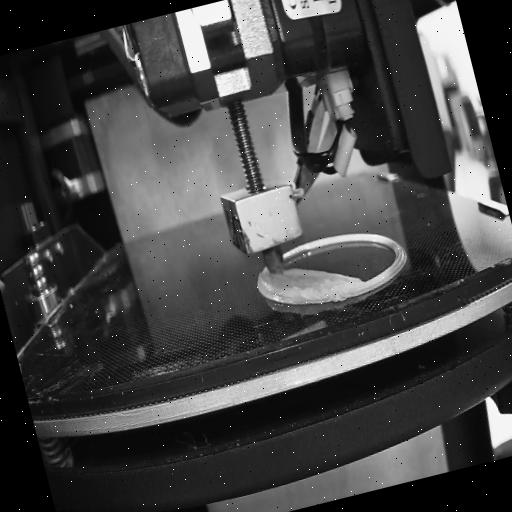over_extrusion: (284, 252, 360, 300)
